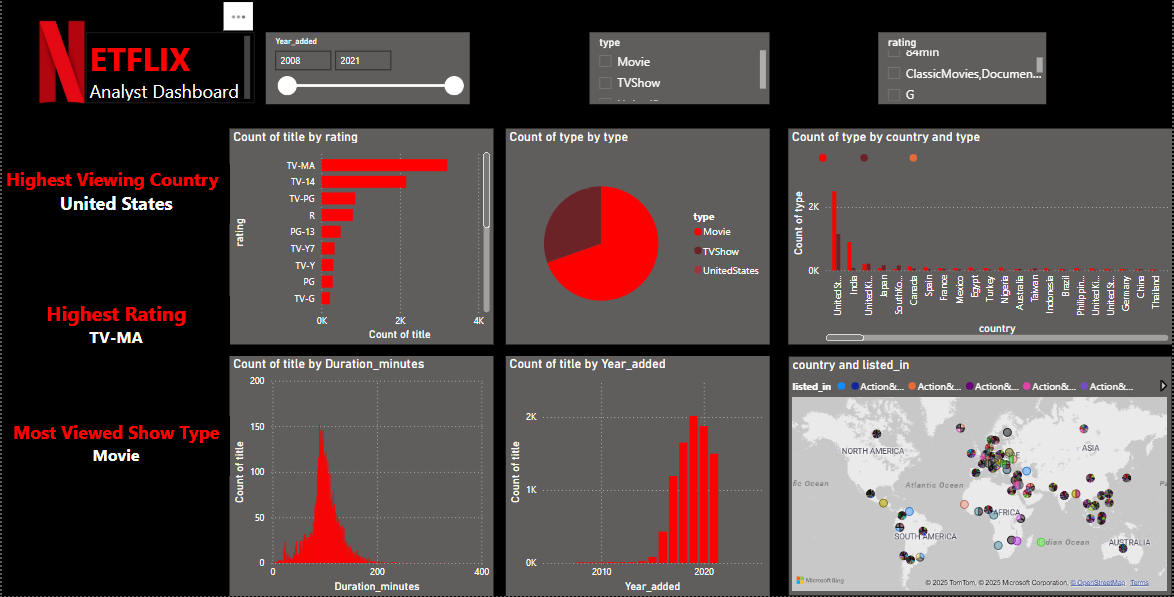

The page's visual inventory and layout, read from the dashboard file:
{"tool":"powerbi","page":{"name":"Page 1","canvas":[1560,800],"ordinal":0},"visuals":[{"type":"pieChart","fields":{"Category":["Cleaned_Netflix.type"],"Y":["CountNonNull(Cleaned_Netflix.type)"]},"box":[672,176,352,288],"z":0},{"type":"clusteredColumnChart","fields":{"Category":["Cleaned_Netflix.country"],"Series":["Cleaned_Netflix.type"],"Y":["CountNonNull(Cleaned_Netflix.type)"]},"box":[1048,176,512,288],"z":1000},{"type":"clusteredColumnChart","fields":{"Category":["Cleaned_Netflix.Year_added"],"Y":["CountNonNull(Cleaned_Netflix.title)"]},"box":[672,480,352,320],"z":2000},{"type":"map","fields":{"Category":["Cleaned_Netflix.country"],"Series":["Cleaned_Netflix.listed_in"]},"box":[1048,480,512,320],"z":3000},{"type":"clusteredBarChart","fields":{"Category":["Cleaned_Netflix.rating"],"Y":["CountNonNull(Cleaned_Netflix.title)"]},"box":[304,176,352,288],"z":4000},{"type":"clusteredColumnChart","fields":{"Y":["CountNonNull(Cleaned_Netflix.title)"],"Category":["Cleaned_Netflix.Duration_minutes"]},"box":[304,480,352,320],"z":5000},{"type":"image","box":[0,0,160,176],"z":6000},{"type":"textbox","box":[112,48,224,96],"z":7000},{"type":"textbox","box":[0,224,304,80],"z":8000},{"type":"textbox","box":[0,400,304,80],"z":9000},{"type":"textbox","box":[0,560,304,80],"z":10000},{"type":"slicer","fields":{"Values":["Cleaned_Netflix.Year_added"]},"box":[352,48,272,96],"z":11000},{"type":"slicer","fields":{"Values":["Cleaned_Netflix.type"]},"box":[784,48,240,96],"z":11001},{"type":"slicer","fields":{"Values":["Cleaned_Netflix.rating"]},"box":[1168,48,224,96],"z":11002}]}

Visuals, with their boxes in screenshot pixels (x1, y1, x2, y2), scaled from the page's 1560x800 canvas onto the 1174x597 screenshot:
pieChart - Cleaned_Netflix.type x CountNonNull(Cleaned_Netflix.type): locate(506, 131, 771, 346)
clusteredColumnChart - Cleaned_Netflix.country x Cleaned_Netflix.type: locate(789, 131, 1173, 346)
clusteredColumnChart - Cleaned_Netflix.Year_added x CountNonNull(Cleaned_Netflix.title): locate(506, 358, 771, 596)
map - Cleaned_Netflix.country x Cleaned_Netflix.listed_in: locate(789, 358, 1173, 596)
clusteredBarChart - Cleaned_Netflix.rating x CountNonNull(Cleaned_Netflix.title): locate(229, 131, 494, 346)
clusteredColumnChart - CountNonNull(Cleaned_Netflix.title) x Cleaned_Netflix.Duration_minutes: locate(229, 358, 494, 596)
image: locate(0, 0, 120, 131)
textbox: locate(84, 36, 253, 107)
textbox: locate(0, 167, 229, 227)
textbox: locate(0, 298, 229, 358)
textbox: locate(0, 418, 229, 478)
slicer - Cleaned_Netflix.Year_added: locate(265, 36, 470, 107)
slicer - Cleaned_Netflix.type: locate(590, 36, 771, 107)
slicer - Cleaned_Netflix.rating: locate(879, 36, 1048, 107)
